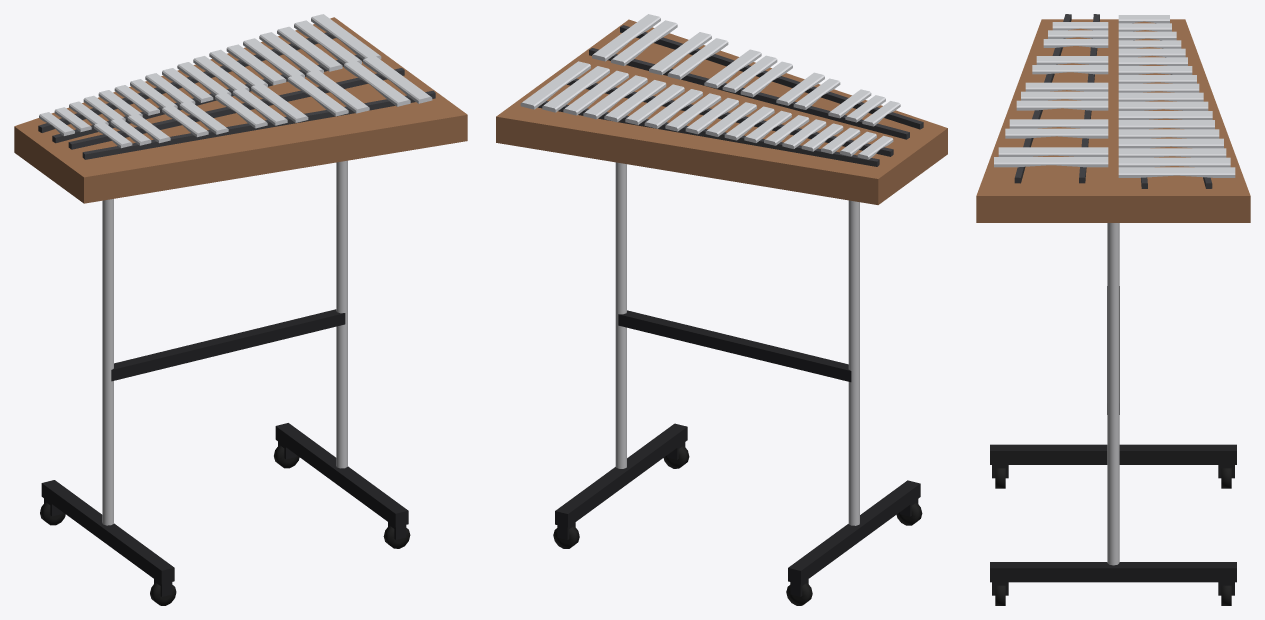
Rendered from glockenspiel-2.5.glb.
3 views of the same model, side by side, from view 1: azimuth 30°, elevation 25°; view 2: azimuth 150°, elevation 25°; view 3: azimuth 270°, elevation 25° (orthographic). The views are drawn at different scales.
Visible parts, largest first — view 1: wood, bars-steel, frame, metal, felt, rubber; view 2: wood, bars-steel, frame, metal, felt, rubber; view 3: bars-steel, wood, frame, metal, felt, rubber.
Boxes of the visible parts, <box> form: wood: <box>14,17,467,203</box>; bars-steel: <box>39,14,432,148</box>; frame: <box>41,309,408,596</box>; metal: <box>102,160,347,525</box>; felt: <box>38,32,435,159</box>; rubber: <box>40,445,410,605</box>; wood: <box>496,19,947,204</box>; bars-steel: <box>520,14,900,159</box>; frame: <box>555,310,920,596</box>; metal: <box>615,162,859,525</box>; felt: <box>538,25,923,166</box>; rubber: <box>553,445,922,605</box>; bars-steel: <box>994,15,1235,177</box>; wood: <box>976,19,1250,222</box>; frame: <box>990,286,1236,595</box>; metal: <box>1107,223,1119,565</box>; felt: <box>1014,14,1212,188</box>; rubber: <box>995,468,1231,605</box>.
Size of the model in its own units: 0.8128 by 0.982 by 0.5334.
